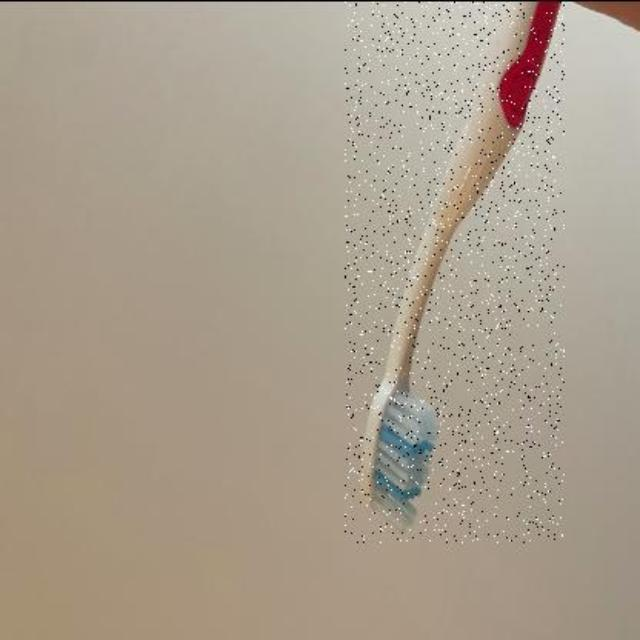toothbrush: (345, 1, 565, 542)
